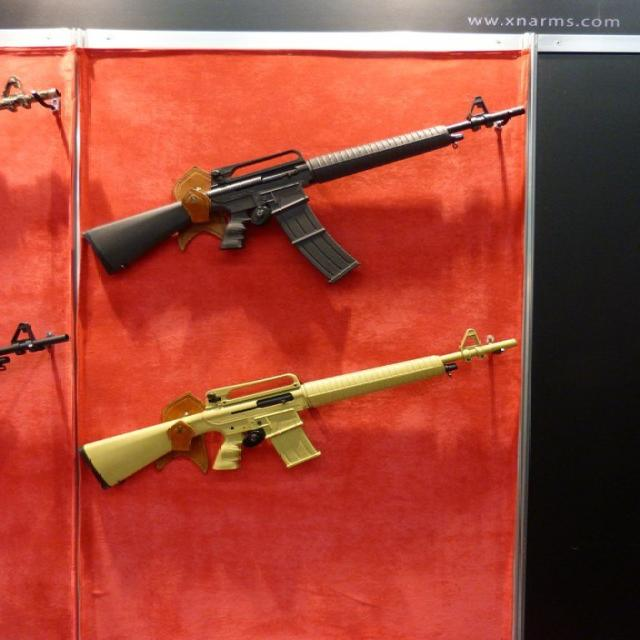firearm: (84, 92, 526, 280), (81, 325, 521, 491), (0, 320, 71, 371), (0, 75, 66, 112)
